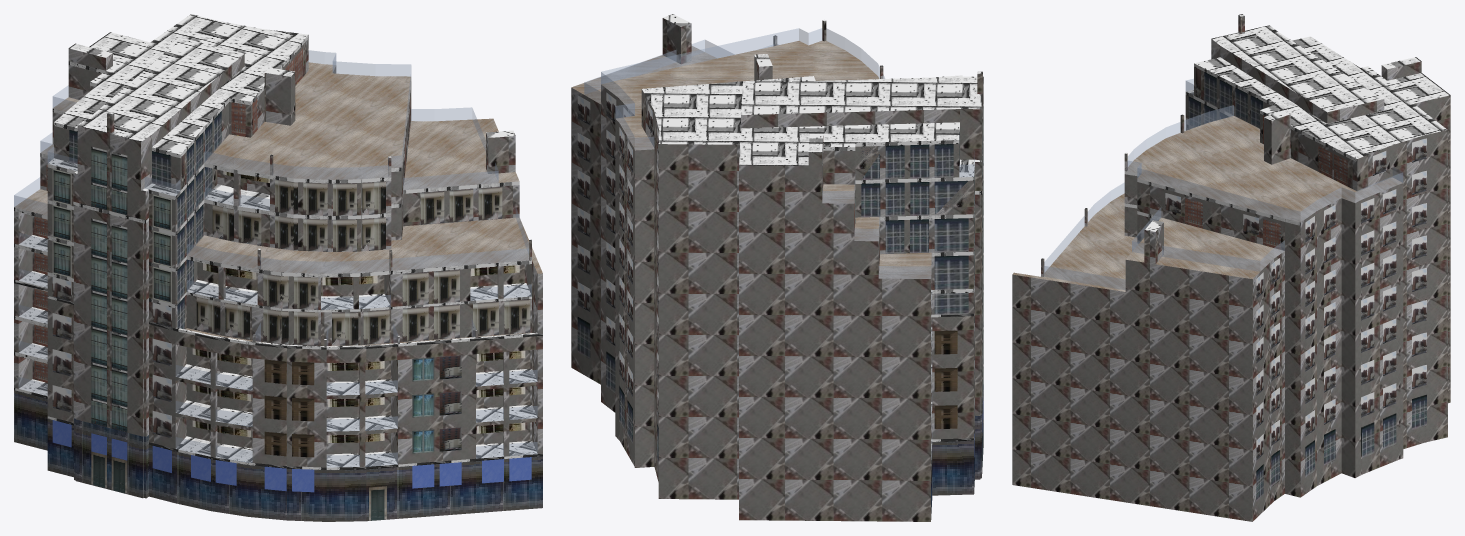
File: Metropool.fbx
3 renders of one model, left to right at view 1: azimuth 30°, elevation 25°; view 2: azimuth 150°, elevation 25°; view 3: azimuth 270°, elevation 25°, orthographic. The views are drawn at different scales.
Parts seen in each view (by area): view 1: Group1, Group_14_1, Group_13_2, Group_13_1, Group_12_1, Group_15_1, Group_17_1, Group_16_1, Group_23_1, Group_23_3, Group_23_5, Group_23_2 (+19 smaller); view 2: Group1, Group_9_1; view 3: Group1, Component_4_1, Group_8_1, Component_3_2, Component_3_5, Component_3_1, Component_3_3, Component_3_6, Component_3_7, Component_3_4, Group_9_1.
Part boxes in pixels (x1=…): Group1: x1=14, y1=14, x2=542, y2=521; Group_14_1: x1=332, y1=309, x2=389, y2=345; Group_13_2: x1=402, y1=304, x2=459, y2=341; Group_13_1: x1=473, y1=299, x2=530, y2=336; Group_12_1: x1=402, y1=269, x2=459, y2=305; Group_15_1: x1=263, y1=308, x2=318, y2=345; Group_17_1: x1=196, y1=296, x2=249, y2=339; Group_16_1: x1=263, y1=273, x2=318, y2=309; Group_23_1: x1=91, y1=362, x2=127, y2=407; Group_23_3: x1=91, y1=290, x2=127, y2=335; Group_23_5: x1=91, y1=146, x2=127, y2=191; Group_23_2: x1=91, y1=326, x2=127, y2=371; Group1: x1=571, y1=14, x2=983, y2=521; Group_9_1: x1=577, y1=316, x2=590, y2=359; Group1: x1=1012, y1=14, x2=1450, y2=521; Component_4_1: x1=1361, y1=413, x2=1396, y2=458; Group_8_1: x1=1305, y1=429, x2=1335, y2=477; Component_3_2: x1=1361, y1=318, x2=1396, y2=352; Component_3_5: x1=1361, y1=221, x2=1396, y2=255; Component_3_1: x1=1361, y1=351, x2=1396, y2=385; Component_3_3: x1=1361, y1=286, x2=1396, y2=320; Component_3_6: x1=1361, y1=189, x2=1396, y2=223; Component_3_7: x1=1361, y1=383, x2=1396, y2=417; Component_3_4: x1=1361, y1=254, x2=1396, y2=287; Group_9_1: x1=1256, y1=450, x2=1279, y2=501.
Size of the model in its own units: 35863 by 30795 by 36375.
